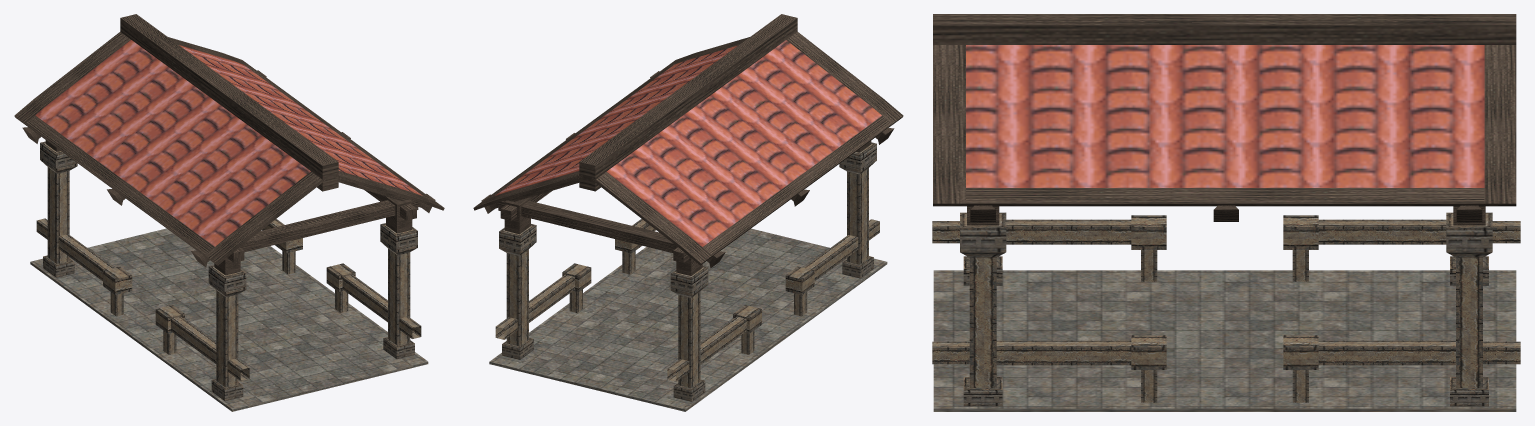
The model's file is corredorjp-ENT.fbx.
3 renders of one model, left to right at view 1: azimuth 30°, elevation 25°; view 2: azimuth 150°, elevation 25°; view 3: azimuth 270°, elevation 25°, orthographic. The views are drawn at different scales.
Parts seen in each view (by area): view 1: Cube; view 2: Cube; view 3: Cube.
Boxes of the visible parts, left/top/right/bottom form: Cube: left=14, top=14, right=444, bottom=411; Cube: left=473, top=14, right=903, bottom=411; Cube: left=932, top=14, right=1520, bottom=411.
Size of the model in its own units: 3.36 by 3.05 by 5.04.
